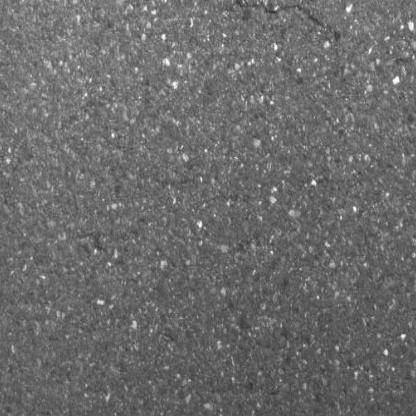Cracks: (186, 0, 331, 33)
